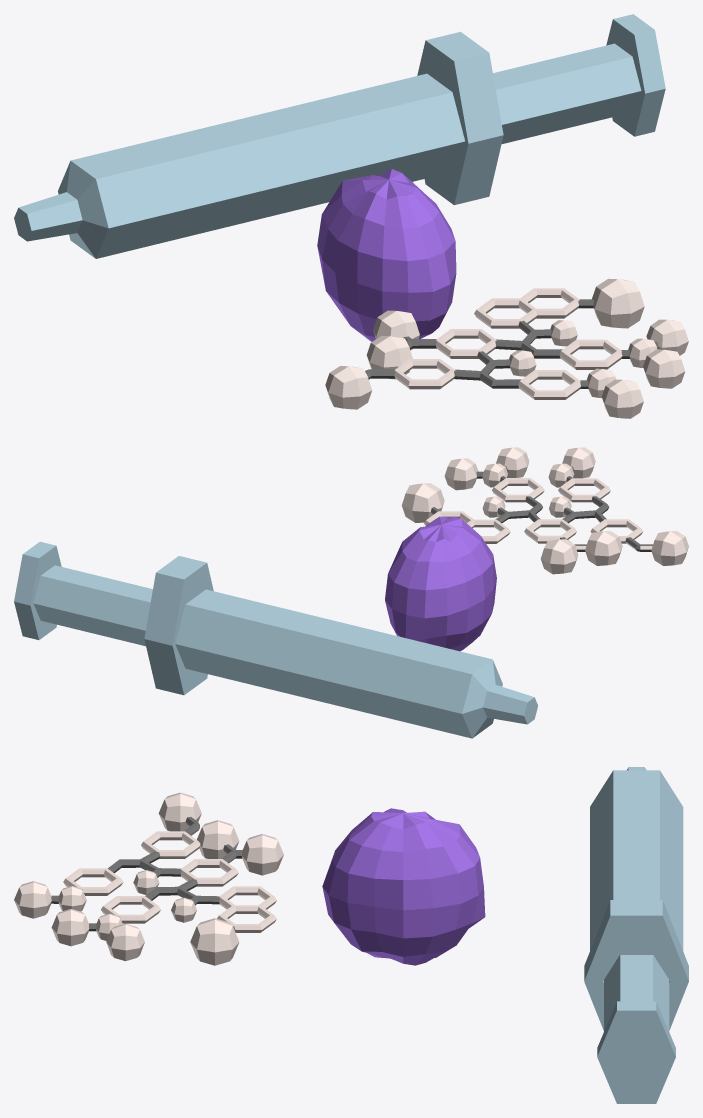
The model's file is labassets3.fbx.
The picture shows the model from 3 angles, top to bottom: view 1: azimuth 30°, elevation 25°; view 2: azimuth 150°, elevation 25°; view 3: azimuth 270°, elevation 25°; orthographic projection. The views are drawn at different scales.
Visible parts, largest first — view 1: Cylinder, C5a, Sphere, Cylinder.001; view 2: Cylinder, C5a, Sphere, Cylinder.001; view 3: Sphere, Cylinder, C5a, Cylinder.001.
Part boxes in pixels (left/top/right/bottom): Cylinder: left=14, top=31, right=503, bottom=258; C5a: left=325, top=278, right=688, bottom=418; Sphere: left=317, top=169, right=456, bottom=341; Cylinder.001: left=493, top=14, right=665, bottom=143; Cylinder: left=144, top=556, right=537, bottom=738; C5a: left=401, top=447, right=688, bottom=574; Sphere: left=385, top=516, right=496, bottom=651; Cylinder.001: left=14, top=541, right=152, bottom=646; Sphere: left=322, top=808, right=485, bottom=965; Cylinder: left=584, top=767, right=688, bottom=1030; C5a: left=14, top=792, right=283, bottom=965; Cylinder.001: left=597, top=955, right=675, bottom=1103.
Size of the model in its own units: 14.1 by 3.47 by 14.49.
